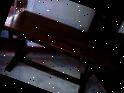Mesa: (0, 4, 123, 92)
